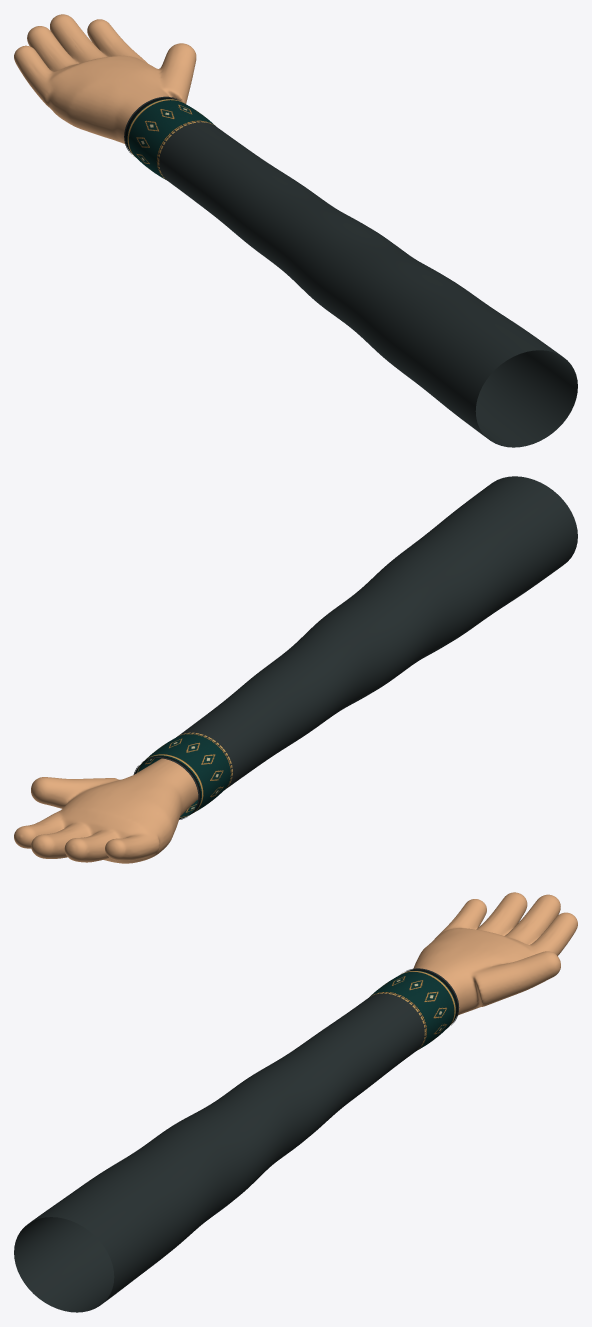
Rendered from mansaf-player-arm-v5.glb.
3 views of the same model, one above another, from view 1: azimuth 30°, elevation 25°; view 2: azimuth 150°, elevation 25°; view 3: azimuth 330°, elevation 25° (orthographic).
Visible parts, largest first — view 1: Sleeve, HandSkin, EmbroideredCuff; view 2: Sleeve, HandSkin, EmbroideredCuff; view 3: Sleeve, HandSkin, EmbroideredCuff.
Boxes of the visible parts, x1=… form: Sleeve: x1=157, y1=121, x2=577, y2=447; HandSkin: x1=14, y1=14, x2=196, y2=144; EmbroideredCuff: x1=125, y1=97, x2=215, y2=179; Sleeve: x1=176, y1=476, x2=577, y2=789; HandSkin: x1=14, y1=758, x2=198, y2=863; EmbroideredCuff: x1=135, y1=733, x2=231, y2=818; Sleeve: x1=14, y1=992, x2=426, y2=1312; HandSkin: x1=413, y1=892, x2=577, y2=1015; EmbroideredCuff: x1=370, y1=969, x2=457, y2=1049.
Bounding box in the file's own units: 0.4372 × 0.2816 × 2.63.
Materials: 4 (1 with a texture image).
